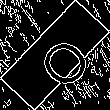O_NW: (21, 22, 89, 88)
